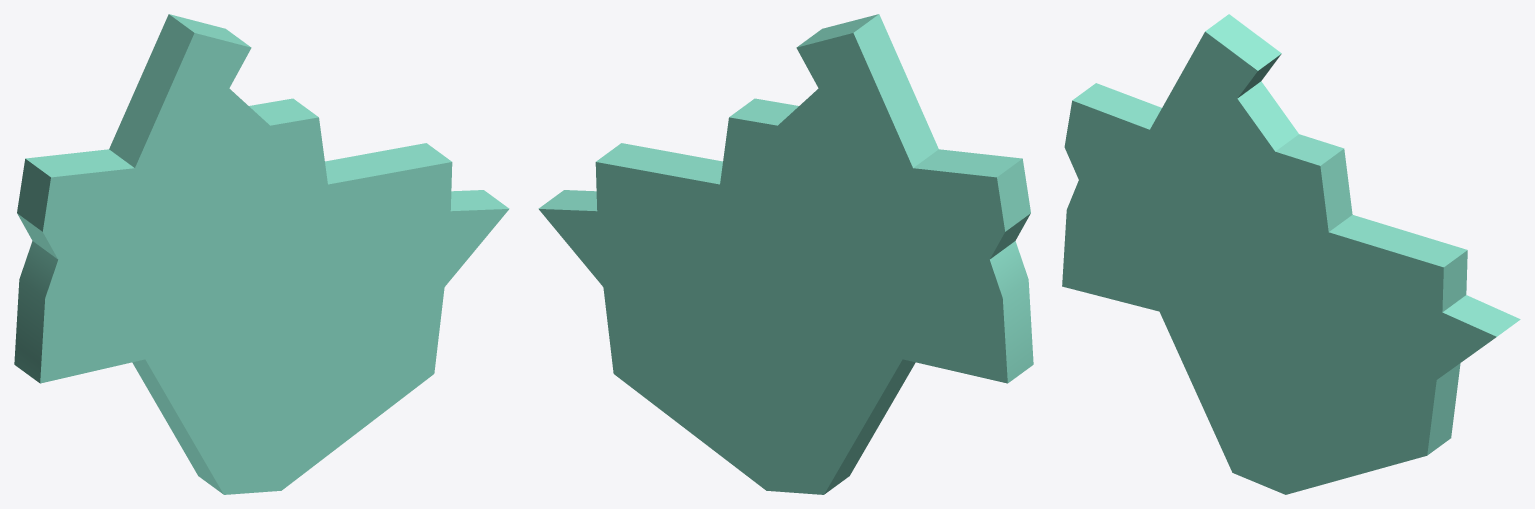
Rendered from nombre_de_dios.fbx.
3 renders of one model, left to right at view 1: azimuth 30°, elevation 25°; view 2: azimuth 150°, elevation 25°; view 3: azimuth 330°, elevation 25°, orthographic. The views are drawn at different scales.
Parts seen in each view (by area): view 1: nombre_de_dios; view 2: nombre_de_dios; view 3: nombre_de_dios.
Boxes of the visible parts, x1,y1,x2,y2 form: nombre_de_dios: [14, 14, 509, 494]; nombre_de_dios: [538, 14, 1033, 494]; nombre_de_dios: [1062, 14, 1520, 494].
Size of the model in its own units: 83.95 by 81.86 by 8.
